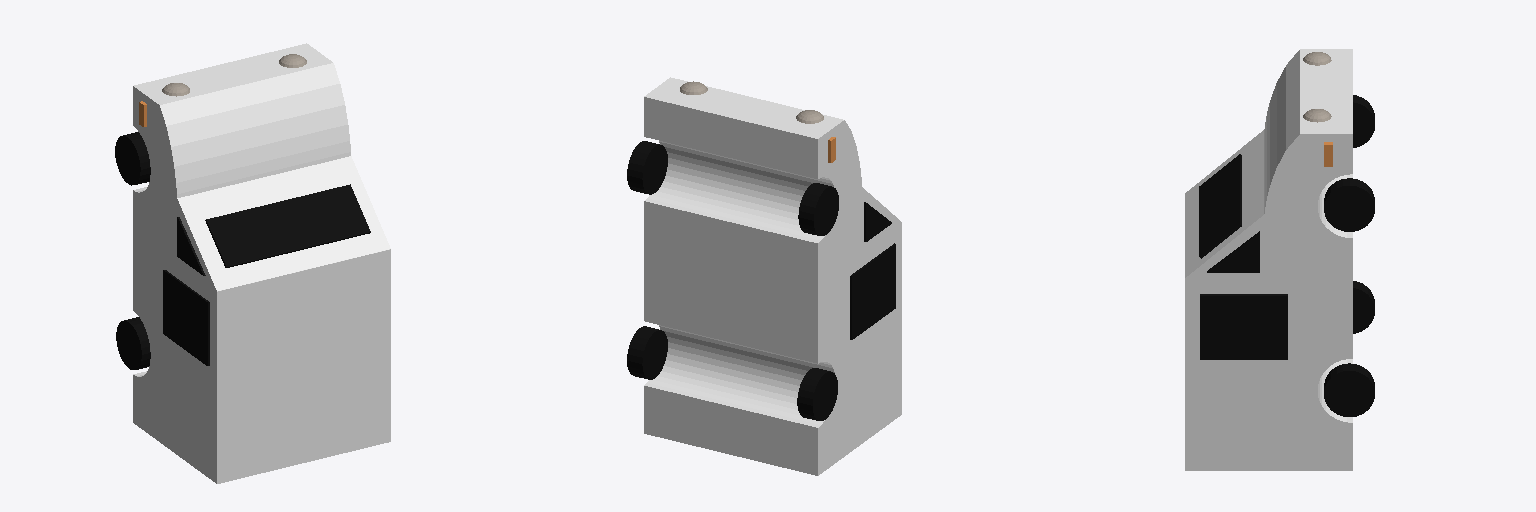
The model's file is car.obj.
3 views of the same model, side by side, from view 1: azimuth 30°, elevation 25°; view 2: azimuth 150°, elevation 25°; view 3: azimuth 270°, elevation 25° (orthographic).
Parts seen in each view (by area): view 1: back, front, windshiels, bckmirro01, wheels03, wheels01, frontmir01; view 2: back, front, bckmirro01, wheels02, wheels, wheels03, wheels01, frontmir01; view 3: back, front, bckmirror, windshiels, wheels, wheels02, frontmirro, wheels03, wheels01.
Part boxes in pixels (x1,y1,x2,y2): back: (133, 231, 390, 483); front: (133, 43, 390, 290); windshiels: (205, 184, 370, 267); bckmirro01: (163, 270, 209, 365); wheels03: (115, 132, 150, 185); wheels01: (116, 317, 150, 369); frontmir01: (177, 217, 205, 275); back: (644, 222, 901, 475); front: (644, 77, 900, 283); bckmirro01: (850, 243, 895, 339); wheels02: (627, 141, 667, 194); wheels: (627, 326, 667, 379); wheels03: (798, 183, 838, 235); wheels01: (797, 368, 837, 420); frontmir01: (864, 202, 891, 241); back: (1185, 278, 1352, 470); front: (1185, 49, 1352, 278); bckmirror: (1200, 294, 1287, 359); windshiels: (1199, 154, 1241, 258); wheels: (1324, 363, 1374, 416); wheels02: (1324, 178, 1374, 231); frontmirro: (1207, 231, 1259, 272); wheels03: (1353, 95, 1374, 147); wheels01: (1353, 281, 1374, 333).
Size of the model in its own units: 2.83 by 5 by 2.51.